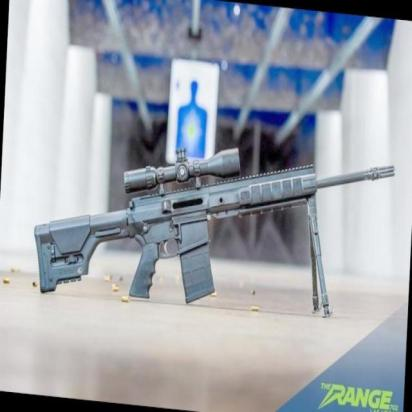Gun: (32, 155, 390, 310)
